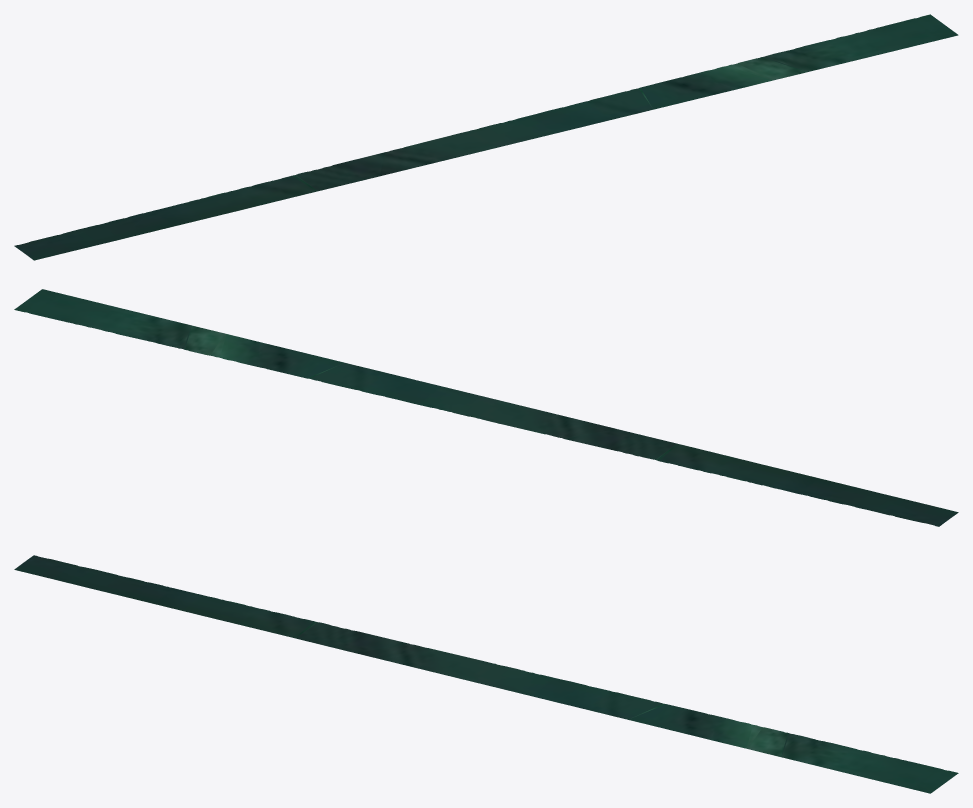
3 views of the same model, one above another, from view 1: azimuth 30°, elevation 25°; view 2: azimuth 150°, elevation 25°; view 3: azimuth 330°, elevation 25° (orthographic).
Size of the model in its own units: 1671 by 1.01 by 89.59.
1 material, 1 textured.
